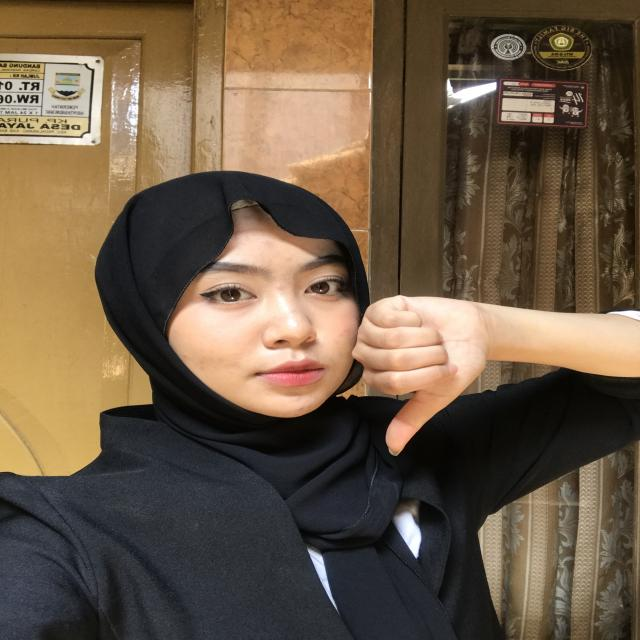sedih: (328, 282, 519, 477)
